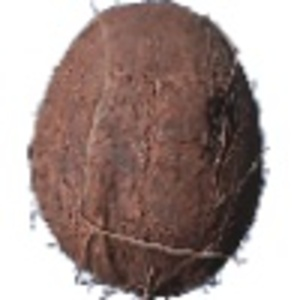coco: (28, 1, 269, 300)
